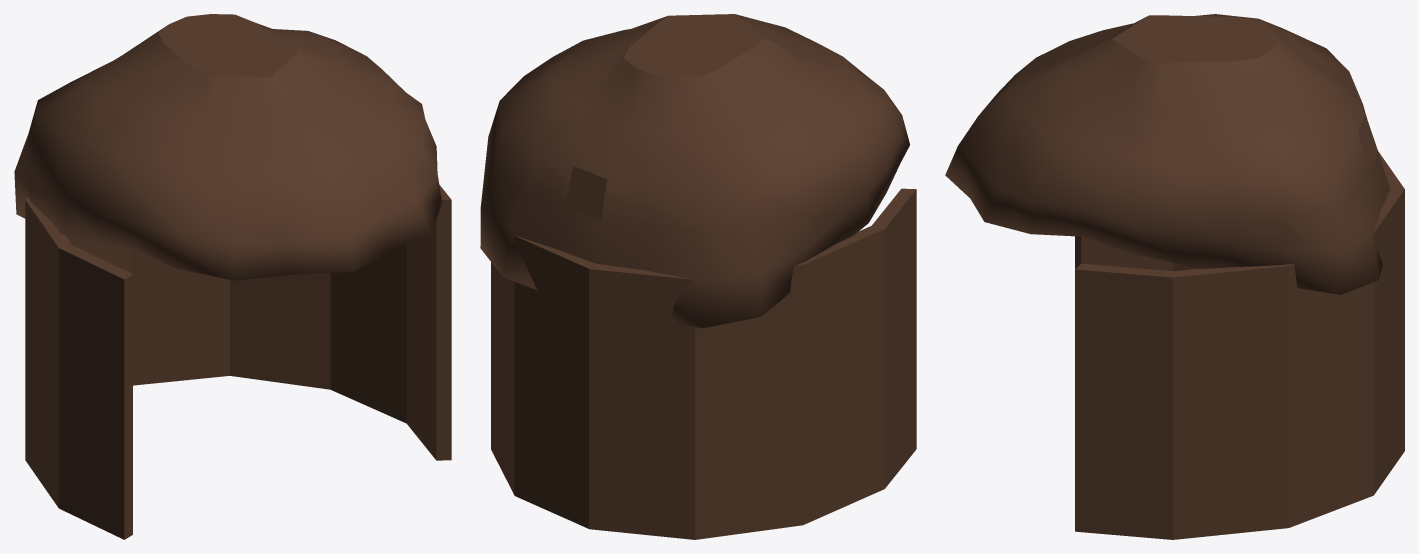
The model's file is bob_blocado.glb.
3 views of the same model, side by side, from view 1: azimuth 30°, elevation 25°; view 2: azimuth 150°, elevation 25°; view 3: azimuth 270°, elevation 25° (orthographic).
Visible parts, largest first — view 1: EA_curto_blocado, R106_Bob_blocado; view 2: R106_Bob_blocado, EA_curto_blocado; view 3: EA_curto_blocado, R106_Bob_blocado.
Boxes of the visible parts, x1,y1,x2,y2 form: EA_curto_blocado: (14,14,442,280); R106_Bob_blocado: (25,185,451,539); R106_Bob_blocado: (491,188,916,539); EA_curto_blocado: (480,14,909,328); EA_curto_blocado: (945,14,1390,294); R106_Bob_blocado: (1075,151,1404,539).
Size of the model in its own units: 0.248 by 0.2687 by 0.2716.
